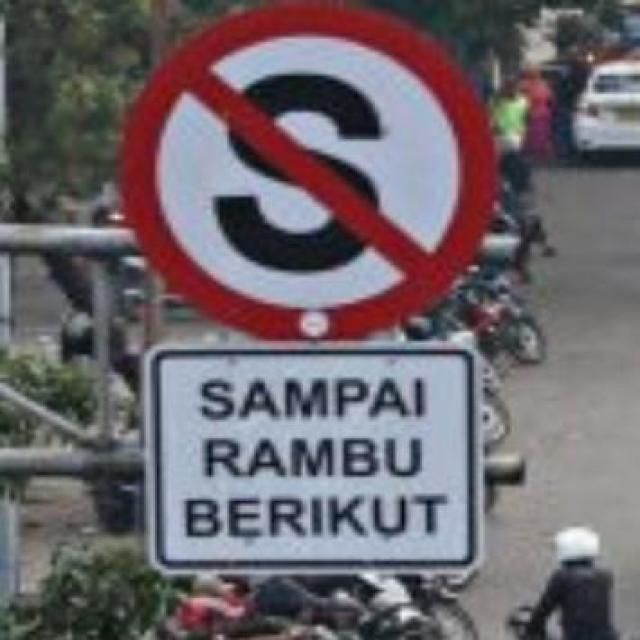traffic sign: (123, 2, 500, 343)
